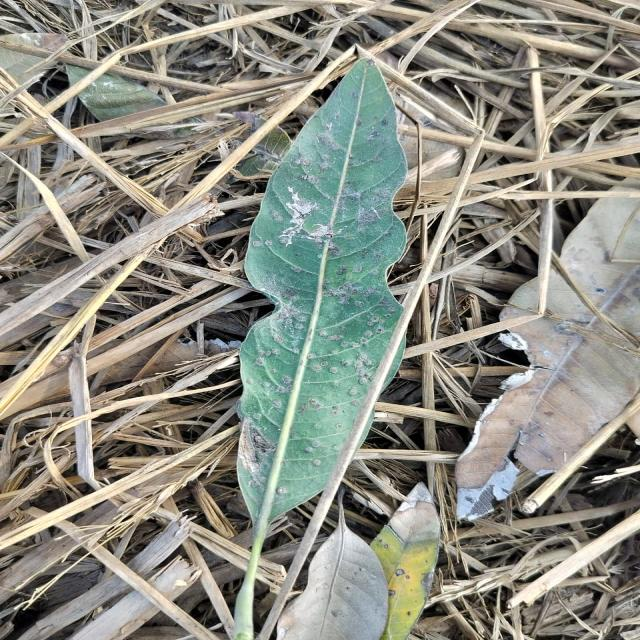Powdery Mildew: (277, 197, 335, 249)
gall midge: (336, 336, 372, 379), (277, 309, 304, 328)
